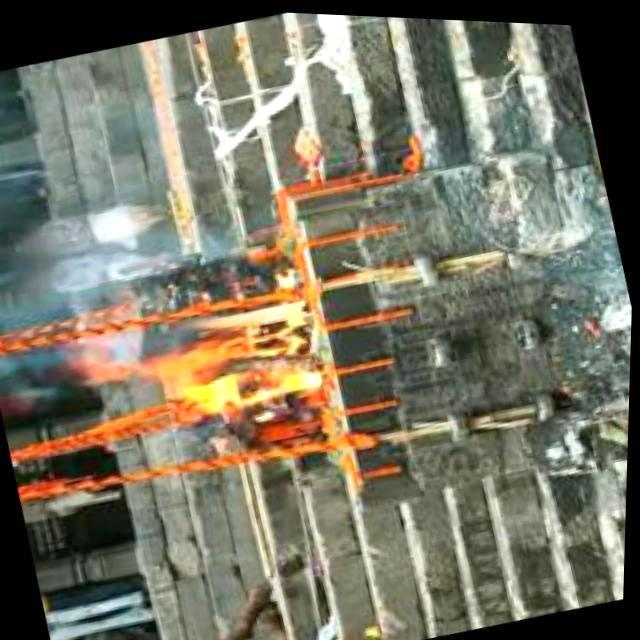fire: (143, 279, 333, 436)
